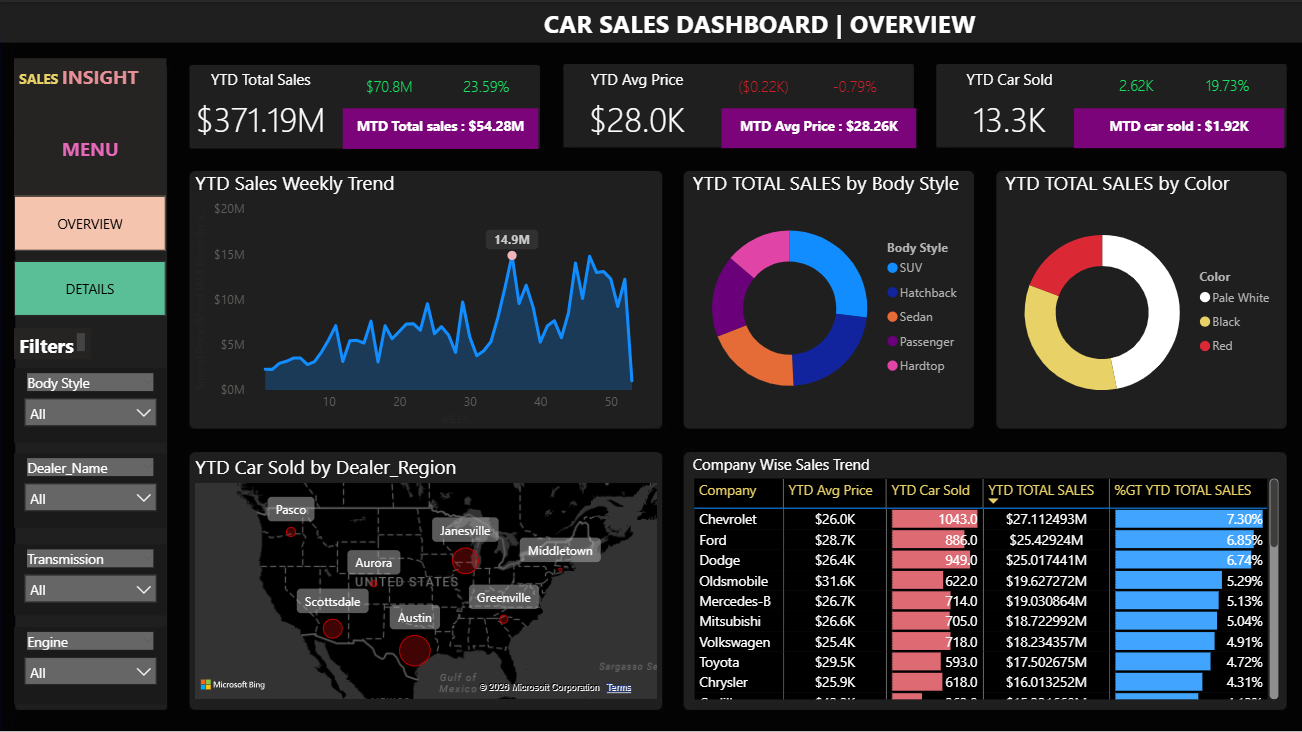

What the dashboard file says about the page in this screenshot:
{"tool":"powerbi","page":{"name":"OVERVIEW","canvas":[1280,720],"ordinal":0},"visuals":[{"type":"card","title":"YTD Total Sales","fields":{"Values":["car_data.YTD TOTAL SALES"]},"box":[188,64.5,138.6,79.6],"z":0},{"type":"card","fields":{"Values":["car_data.SALES DIFFERENCE"]},"box":[332.1,64.5,101.5,39.8],"z":1000},{"type":"card","fields":{"Values":["car_data.YOY Sales Growth"]},"box":[426.8,64.5,102.9,39.8],"z":2000},{"type":"card","fields":{"Values":["car_data.MTD KPI"]},"box":[337.6,104.3,192.1,40],"z":3000},{"type":"card","title":"YTD  Avg Price","fields":{"Values":["car_data.YTD Avg Price"]},"box":[557.1,64.5,138.6,79.6],"z":4000},{"type":"card","fields":{"Values":["car_data.Avg Price Diff"]},"box":[695.7,64.5,109.8,39.8],"z":5000},{"type":"card","fields":{"Values":["car_data.YOY Avg Price Growth"]},"box":[784.9,64.5,109.8,39.8],"z":6000},{"type":"card","fields":{"Values":["car_data.MTD Avg Price KPI"]},"box":[709.2,104.3,191.4,39.3],"z":7000},{"type":"areaChart","title":"YTD Sales Weekly Trend ","fields":{"Category":["Calender Table.1 WEEK"],"Y":["Sum(car_data.Price ($))","car_data.MAX Point On Area Chart"]},"box":[187.7,164.4,462.6,256.4],"z":8000},{"type":"donutChart","fields":{"Category":["car_data.Body Style"],"Y":["car_data.YTD TOTAL SALES"]},"box":[676.1,164.4,278.5,247.9],"z":9000},{"type":"donutChart","fields":{"Y":["car_data.YTD TOTAL SALES"],"Category":["car_data.Color"]},"box":[982.8,164.4,278.5,256.4],"z":10000},{"type":"card","title":"YTD   Car Sold","fields":{"Values":["car_data.YTD Car Sold"]},"box":[922.7,65,138.7,79.8],"z":11000},{"type":"card","fields":{"Values":["car_data.Car Sold Diff"]},"box":[1061.4,65,110.4,39.3],"z":12000},{"type":"card","fields":{"Values":["car_data.YOY Car Sold Growth"]},"box":[1150.9,65,110.4,39.3],"z":13000},{"type":"card","fields":{"Values":["car_data.MTD Car Sold KPI"]},"box":[1055.2,104.3,206.1,39.3],"z":14000},{"type":"map","fields":{"Category":["car_data.Dealer_Region"],"Size":["car_data.YTD Car Sold"]},"box":[187.7,442.9,462.6,246.6],"z":15000},{"type":"tableEx","title":"Company Wise Sales Trend","fields":{"Values":["car_data.Company","car_data.YTD Avg Price","car_data.YTD Car Sold","car_data.YTD TOTAL SALES1","car_data.YTD TOTAL SALES"]},"box":[676.1,442.9,585.3,246.6],"z":16000},{"type":"textbox","box":[530.1,0,516.6,55.2],"z":17000},{"type":"slicer","fields":{"Values":["car_data.Body Style"]},"box":[14.7,359.5,149.7,73.6],"z":18000},{"type":"slicer","fields":{"Values":["car_data.Dealer_Name"]},"box":[14.7,442.9,149.7,73.6],"z":19000},{"type":"slicer","fields":{"Values":["car_data.Transmission"]},"box":[14.7,532.5,149.7,69.9],"z":20000},{"type":"slicer","fields":{"Values":["car_data.Engine"]},"box":[14.7,613.5,149.7,76.1],"z":21000},{"type":"textbox","box":[14.7,320.2,74.8,30.7],"z":22000},{"type":"textbox","box":[14.7,55.2,149.7,71.2],"z":23000},{"type":"textbox","box":[14.7,126.4,149.7,63.8],"z":24000},{"type":"pageNavigator","box":[14.7,190.2,149.7,119],"z":25000}]}

Visuals, with their boxes in screenshot pixels (x1, y1, x2, y2), scaled from the page's 1280x720 canvas onto the 1302x732 screenshot:
"YTD Total Sales" card: <bbox>191, 66, 332, 147</bbox>
card - car_data.SALES DIFFERENCE: <bbox>338, 66, 441, 106</bbox>
card - car_data.YOY Sales Growth: <bbox>434, 66, 539, 106</bbox>
card - car_data.MTD KPI: <bbox>343, 106, 539, 147</bbox>
"YTD  Avg Price" card: <bbox>567, 66, 708, 147</bbox>
card - car_data.Avg Price Diff: <bbox>708, 66, 819, 106</bbox>
card - car_data.YOY Avg Price Growth: <bbox>798, 66, 910, 106</bbox>
card - car_data.MTD Avg Price KPI: <bbox>721, 106, 916, 146</bbox>
"YTD Sales Weekly Trend " areaChart: <bbox>191, 167, 661, 428</bbox>
donutChart - car_data.Body Style x car_data.YTD TOTAL SALES: <bbox>688, 167, 971, 419</bbox>
donutChart - car_data.YTD TOTAL SALES x car_data.Color: <bbox>1000, 167, 1283, 428</bbox>
"YTD   Car Sold" card: <bbox>939, 66, 1080, 147</bbox>
card - car_data.Car Sold Diff: <bbox>1080, 66, 1192, 106</bbox>
card - car_data.YOY Car Sold Growth: <bbox>1171, 66, 1283, 106</bbox>
card - car_data.MTD Car Sold KPI: <bbox>1073, 106, 1283, 146</bbox>
map - car_data.Dealer_Region x car_data.YTD Car Sold: <bbox>191, 450, 661, 701</bbox>
"Company Wise Sales Trend" tableEx: <bbox>688, 450, 1283, 701</bbox>
textbox: <bbox>539, 0, 1065, 56</bbox>
slicer - car_data.Body Style: <bbox>15, 365, 167, 440</bbox>
slicer - car_data.Dealer_Name: <bbox>15, 450, 167, 525</bbox>
slicer - car_data.Transmission: <bbox>15, 541, 167, 612</bbox>
slicer - car_data.Engine: <bbox>15, 624, 167, 701</bbox>
textbox: <bbox>15, 326, 91, 357</bbox>
textbox: <bbox>15, 56, 167, 129</bbox>
textbox: <bbox>15, 129, 167, 193</bbox>
pageNavigator: <bbox>15, 193, 167, 314</bbox>
